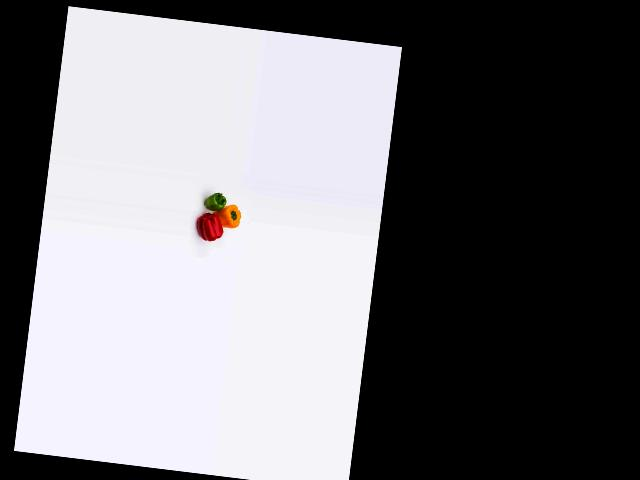bell_pepper: (202, 186, 229, 213)
